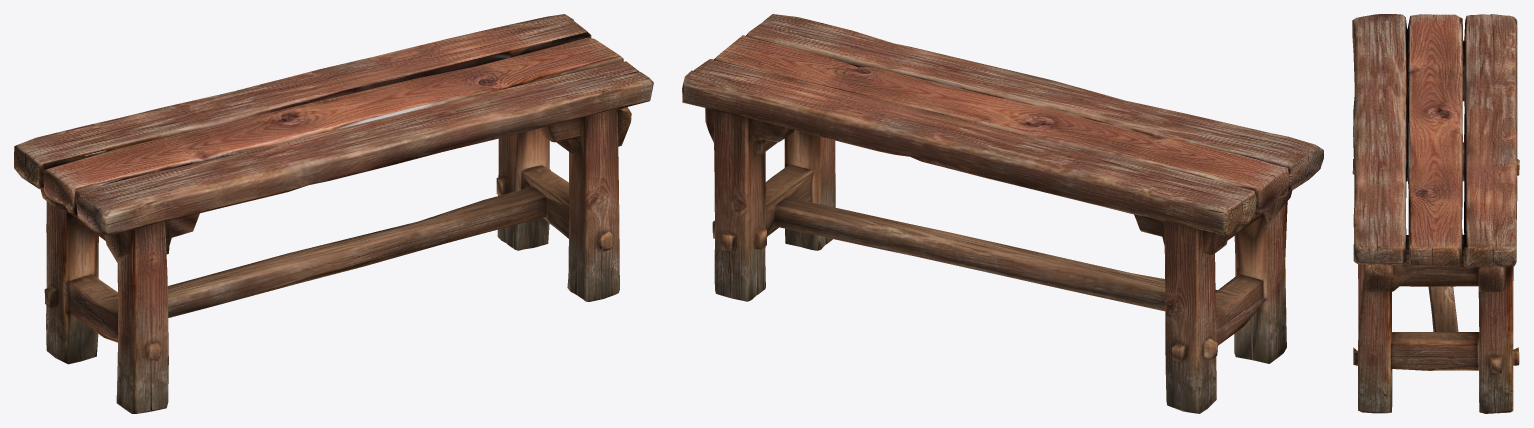
Rendered from village_bench.glb.
3 views of the same model, side by side, from view 1: azimuth 30°, elevation 25°; view 2: azimuth 150°, elevation 25°; view 3: azimuth 270°, elevation 25° (orthographic). The views are drawn at different scales.
Visible parts, largest first — view 1: wooden bench 3d model; view 2: wooden bench 3d model; view 3: wooden bench 3d model.
Part boxes in pixels (x1,y1,x2,y2): wooden bench 3d model: [14, 14, 653, 413]; wooden bench 3d model: [682, 14, 1323, 413]; wooden bench 3d model: [1352, 14, 1519, 413].
Size of the model in its own units: 1.26 by 0.47 by 0.3847.
Materials: 1 (1 with a texture image).
